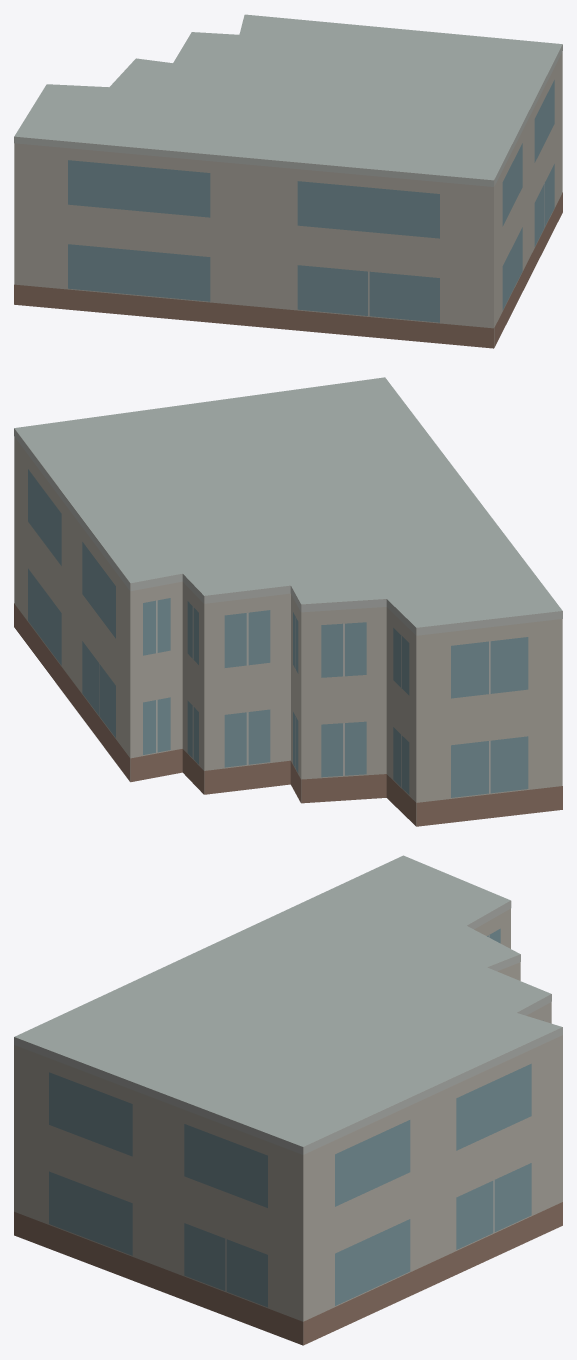
Rendered from survey-upis-32606170.glb.
3 views of the same model, one above another, from view 1: azimuth 30°, elevation 25°; view 2: azimuth 150°, elevation 25°; view 3: azimuth 270°, elevation 25° (orthographic). The views are drawn at different scales.
Visible parts, largest first — view 1: survey-upis-32606170.tmp; view 2: survey-upis-32606170.tmp; view 3: survey-upis-32606170.tmp.
Boxes of the visible parts, <box> form: survey-upis-32606170.tmp: <box>14,14,562,348</box>; survey-upis-32606170.tmp: <box>14,377,562,826</box>; survey-upis-32606170.tmp: <box>14,855,562,1345</box>.
Size of the model in its own units: 19.23 by 6.1 by 15.29.
